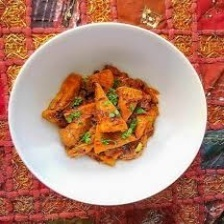sabzi: (39, 61, 166, 167)
